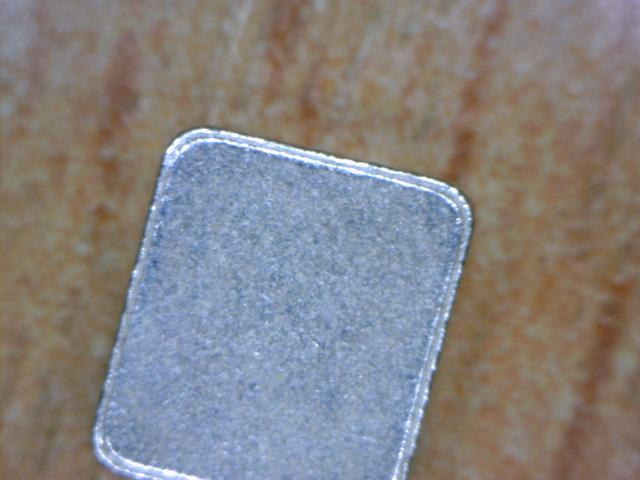nok: (86, 124, 478, 476)
